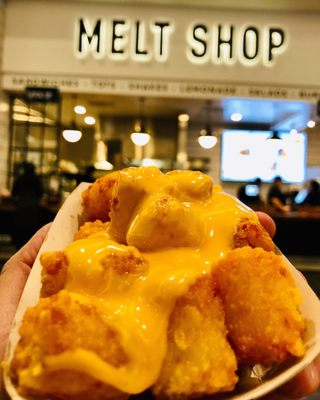burger: (5, 167, 305, 400)
salad: (7, 167, 316, 400)
